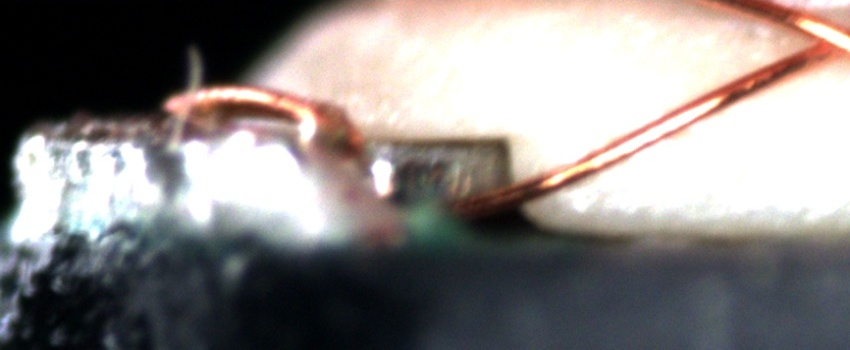TE: (161, 69, 354, 138)
